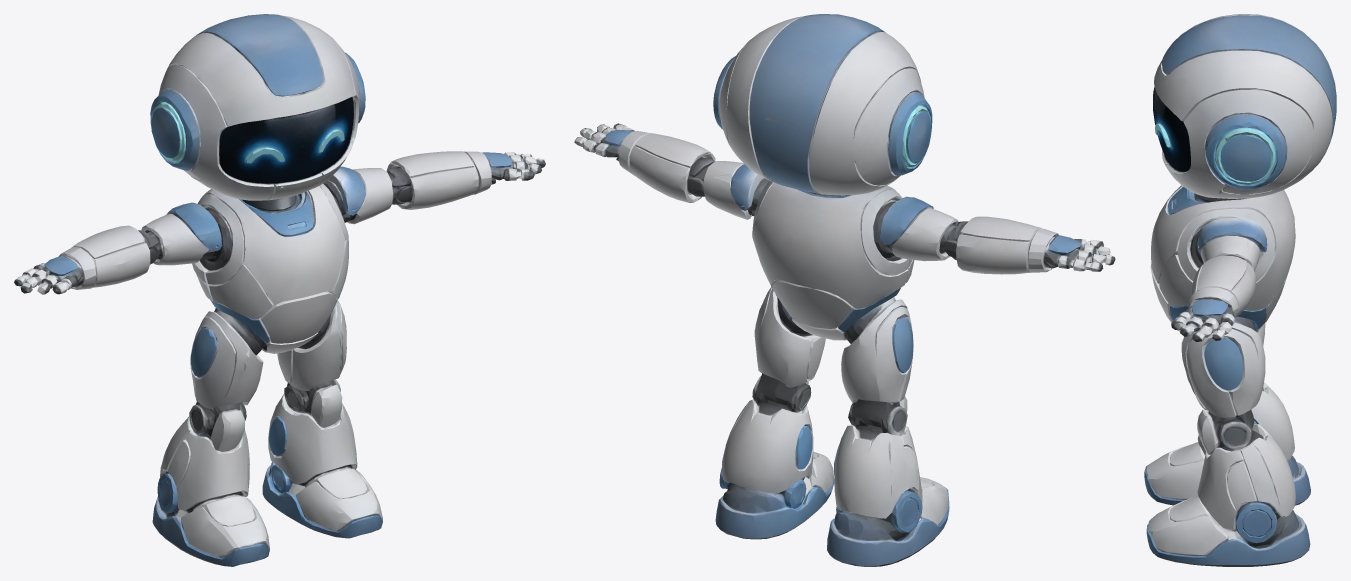
The model's file is robot.glb.
3 renders of one model, left to right at view 1: azimuth 30°, elevation 25°; view 2: azimuth 150°, elevation 25°; view 3: azimuth 270°, elevation 25°, orthographic.
Parts seen in each view (by area): view 1: model; view 2: model; view 3: model.
Boxes of the visible parts, x1,y1,x2,y2 form: model: (14, 14, 545, 566); model: (574, 14, 1115, 566); model: (1144, 14, 1336, 566).
Bounding box in the file's own units: 1.9 × 1.72 × 0.6019.
Materials: 1 (1 with a texture image).
